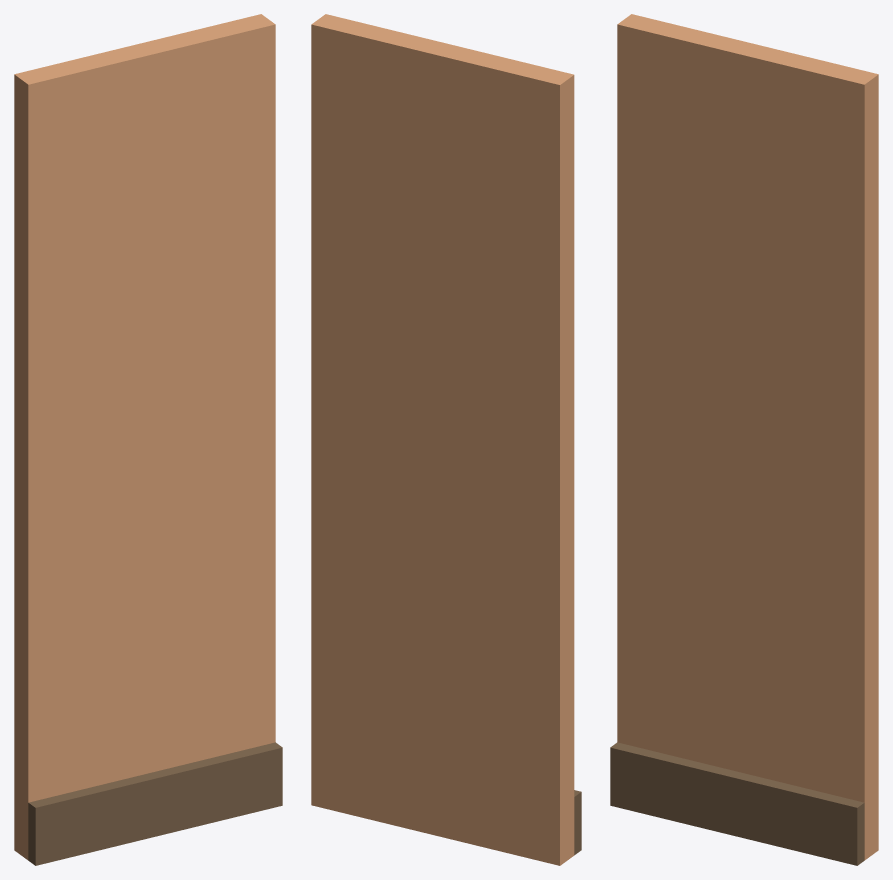
File: Mesh_WallBaseboard_D1.fbx
The picture shows the model from 3 angles, left to right: view 1: azimuth 30°, elevation 25°; view 2: azimuth 150°, elevation 25°; view 3: azimuth 330°, elevation 25°; orthographic projection.
Parts seen in each view (by area): view 1: Mesh_WallBaseboard_D1; view 2: Mesh_WallBaseboard_D1; view 3: Mesh_WallBaseboard_D1.
Boxes of the visible parts, x1=… form: Mesh_WallBaseboard_D1: x1=14, y1=14, x2=282, y2=865; Mesh_WallBaseboard_D1: x1=311, y1=14, x2=581, y2=865; Mesh_WallBaseboard_D1: x1=610, y1=14, x2=878, y2=865.
Size of the model in its own units: 1 by 3 by 0.15.
